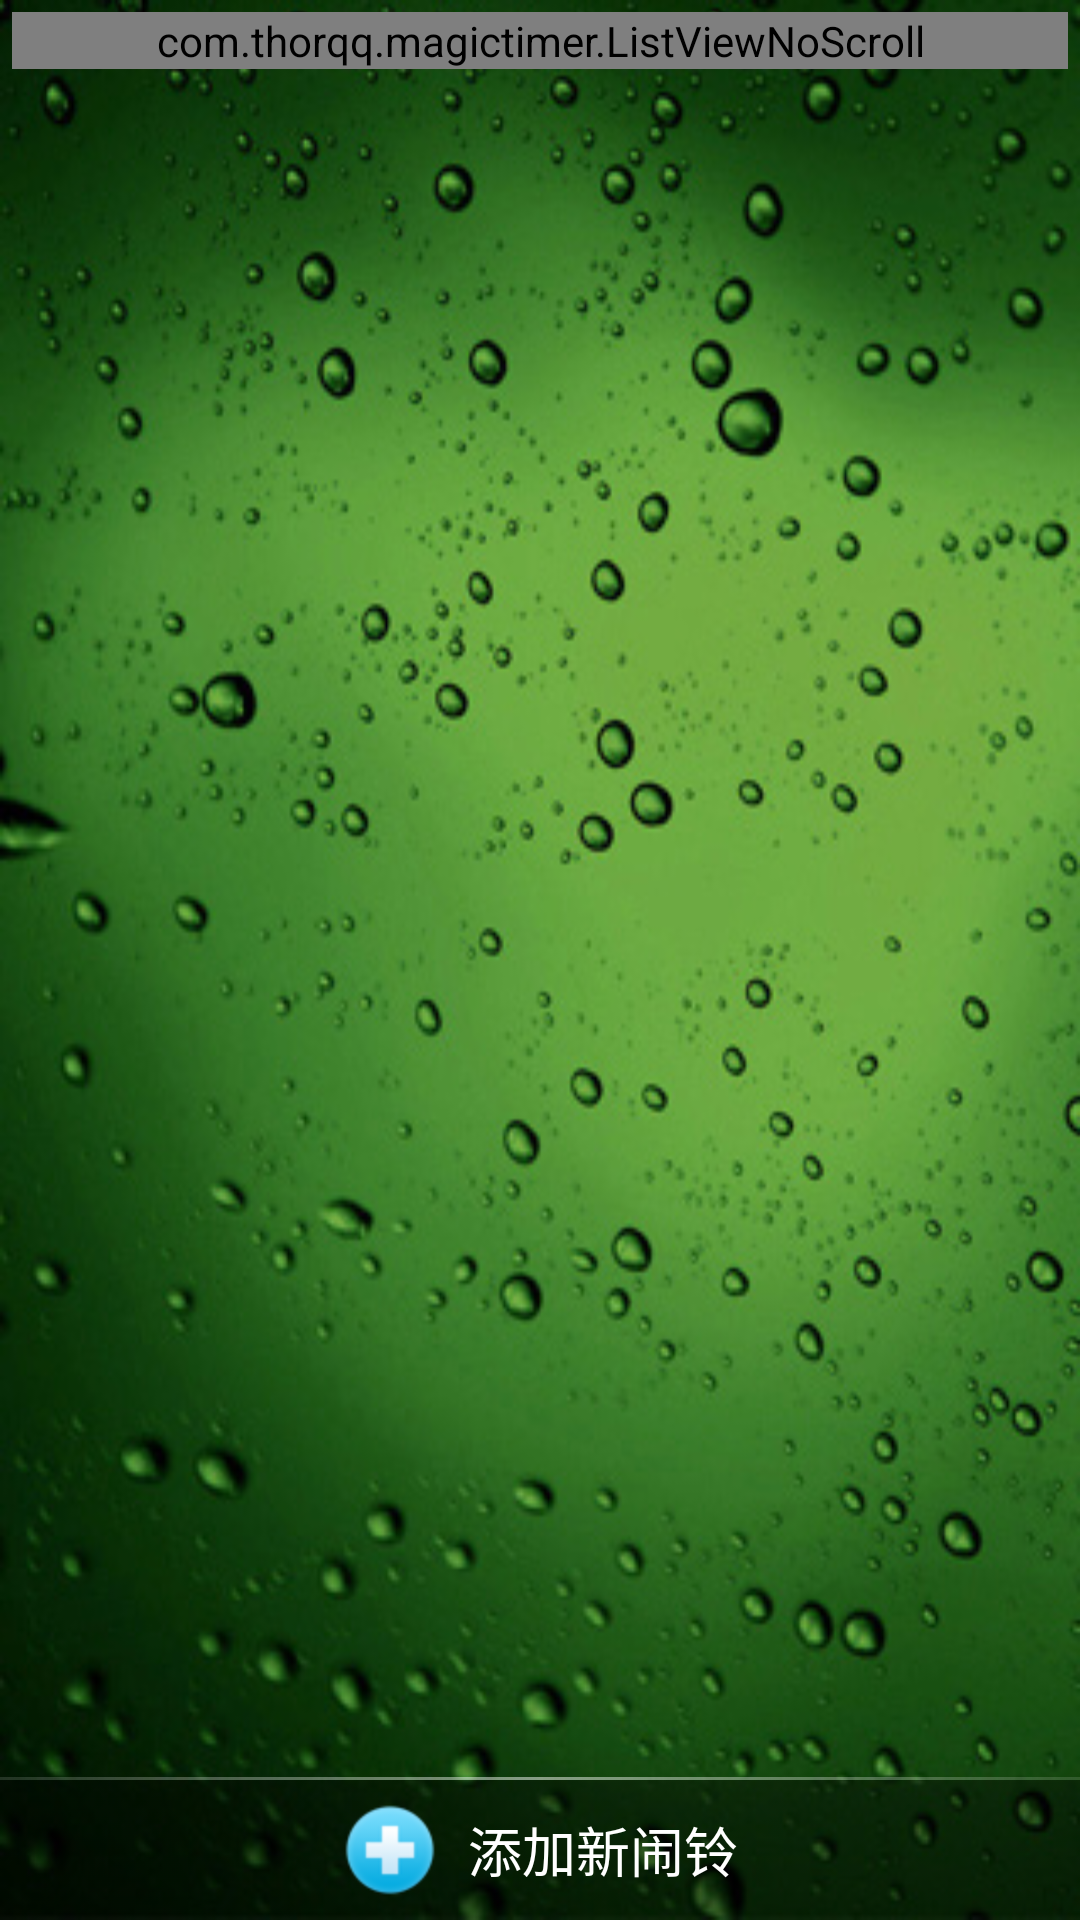

Icon click points for this 1080px x 1920px phone screenshot, format (x=x, y=y):
add: (x=390, y=1850)
